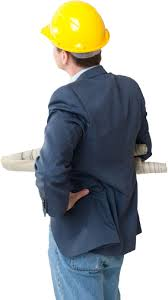Person_wearing_helmet: (37, 0, 109, 55)
